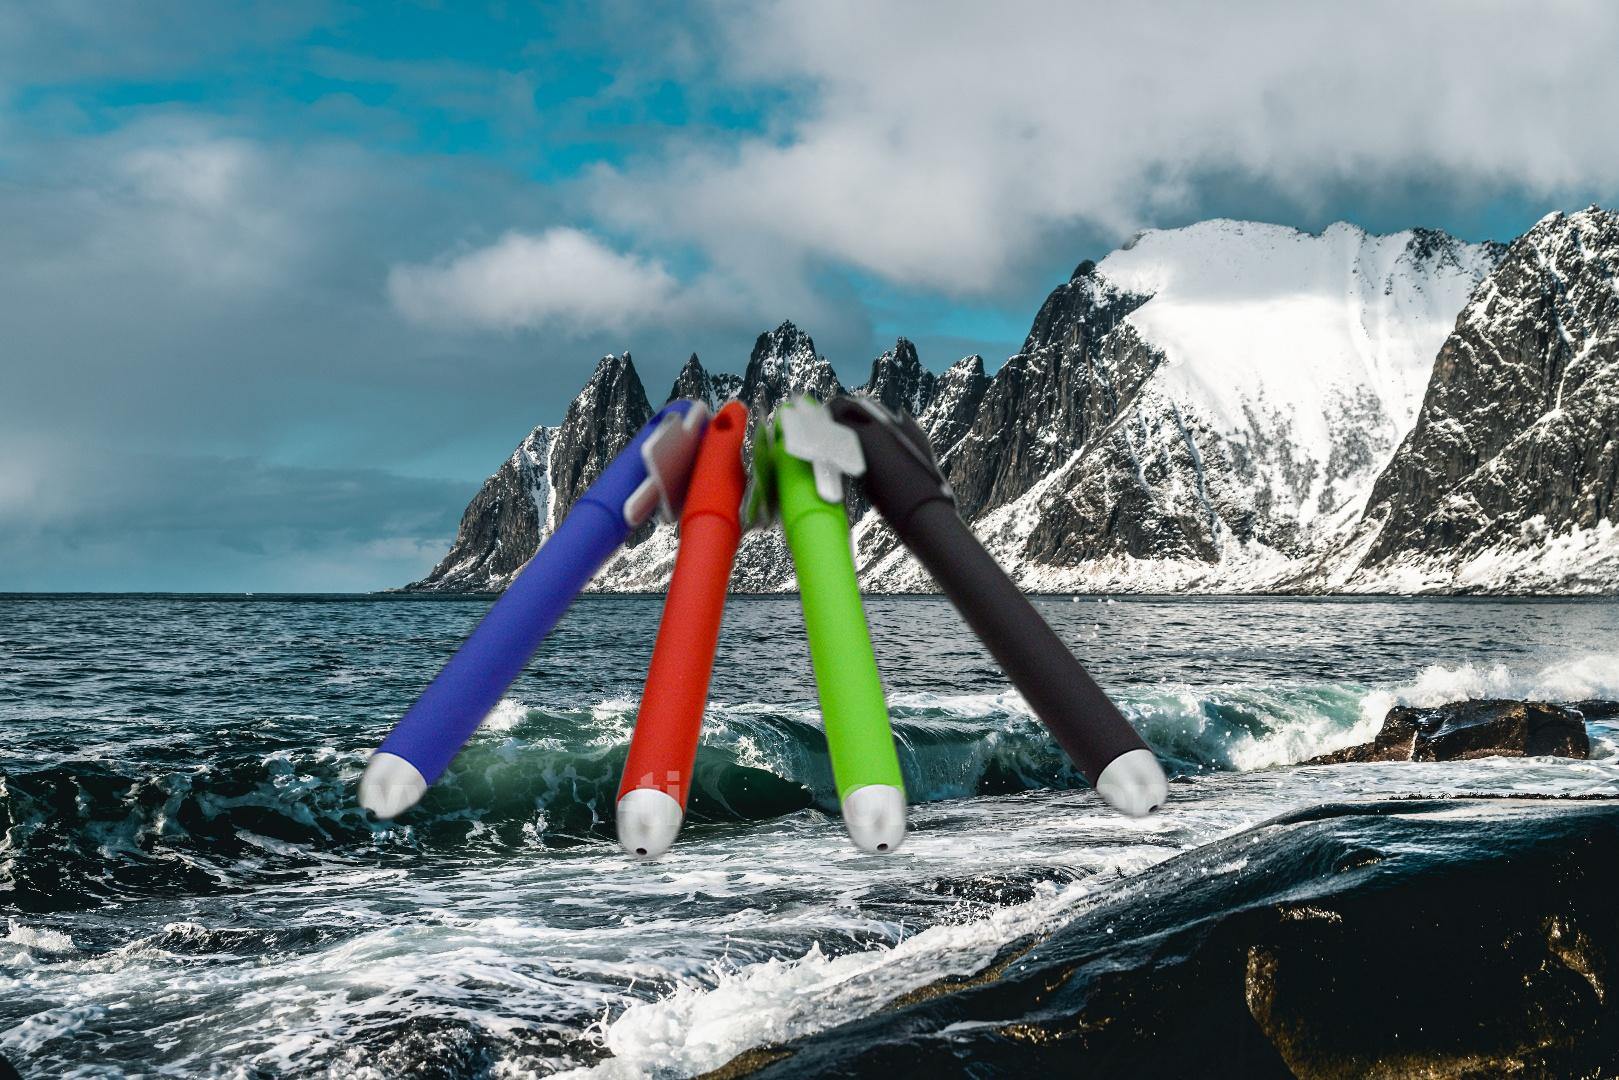penholder: (350, 383, 1187, 900)
